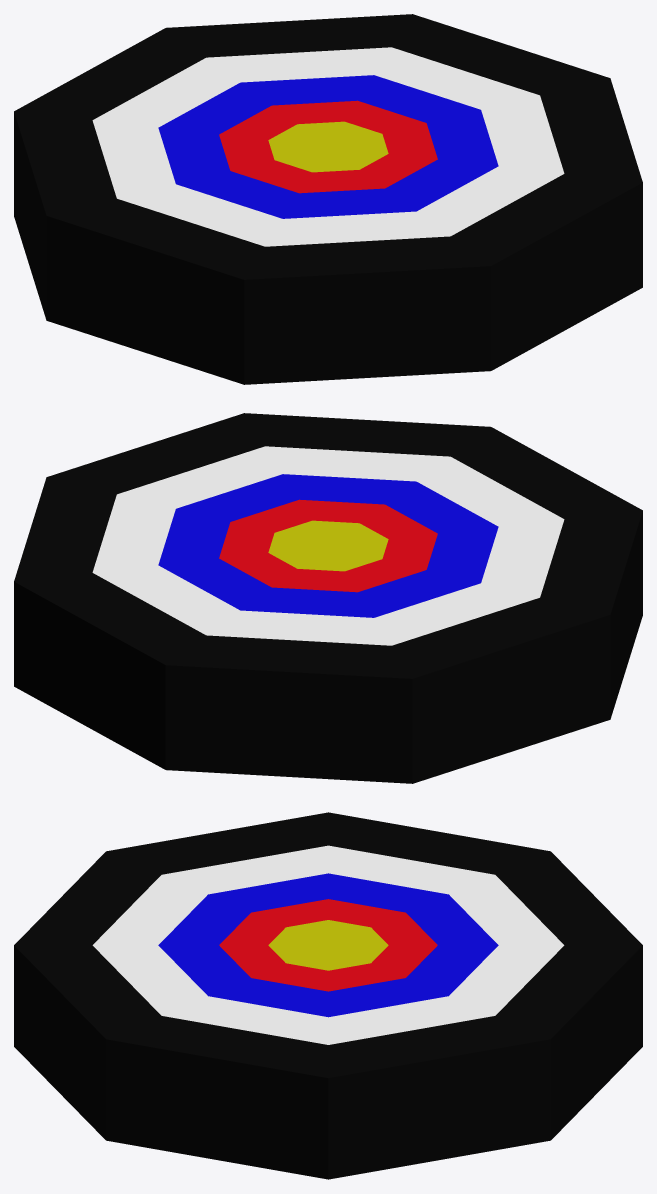
File: Target.fbx
3 views of the same model, one above another, from view 1: azimuth 30°, elevation 25°; view 2: azimuth 150°, elevation 25°; view 3: azimuth 270°, elevation 25° (orthographic). The views are drawn at different scales.
Visible parts, largest first — view 1: 円柱; view 2: 円柱; view 3: 円柱.
Part boxes in pixels (x1,y1,x2,y2): 円柱: (14,14,642,384); 円柱: (14,413,642,783); 円柱: (14,812,642,1179).
Bounding box in the file's own units: 127 × 22.52 × 127.
